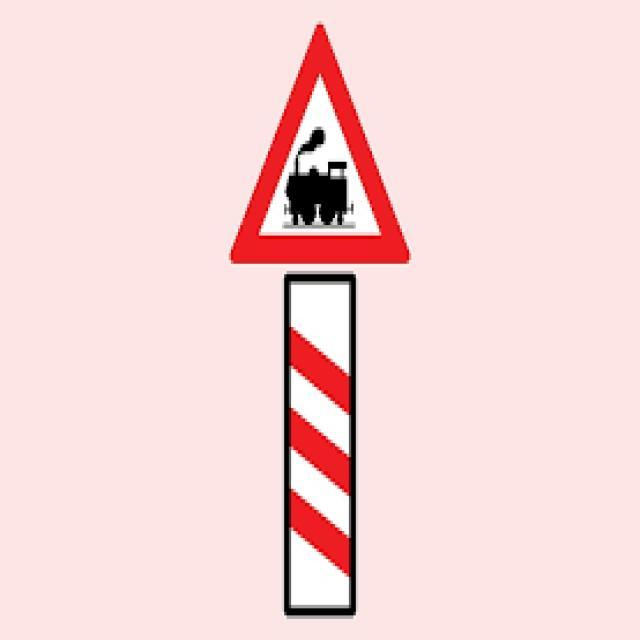unguarded level crossing: (227, 25, 421, 267)
